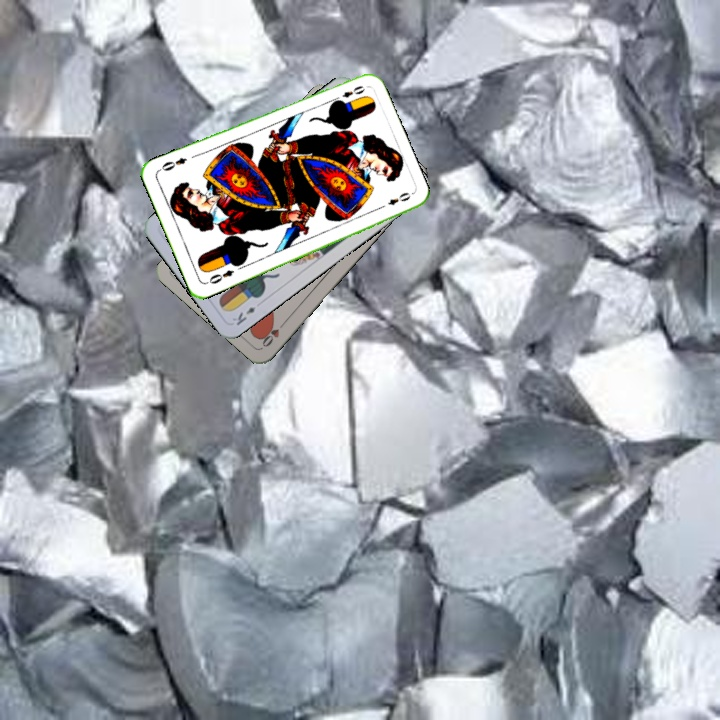EK: (228, 302, 258, 328)
EO: (329, 82, 368, 104), (202, 265, 236, 287)
HO: (257, 316, 289, 350)
